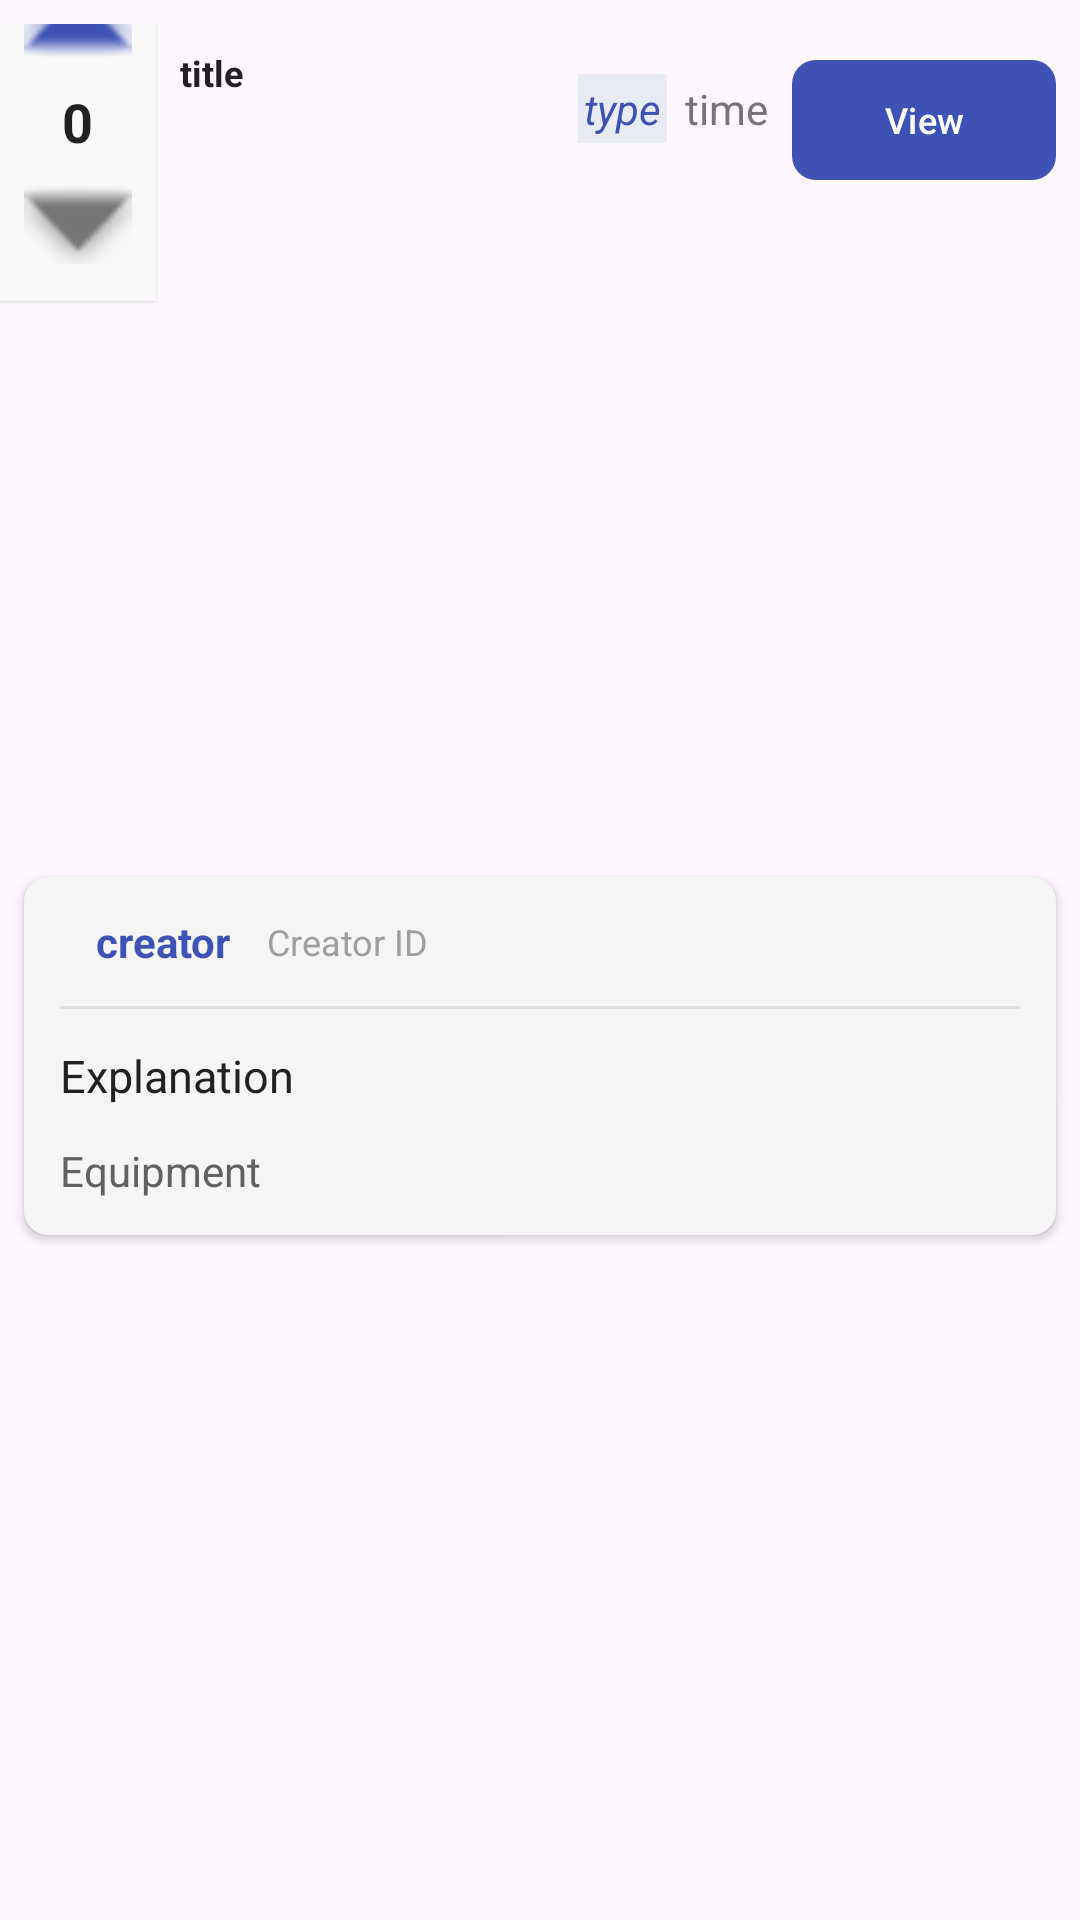

Icons on this 1080w x 1920h Android screen, each with the point to tap as (x=x, y=y):
Dislike: (x=78, y=222)
